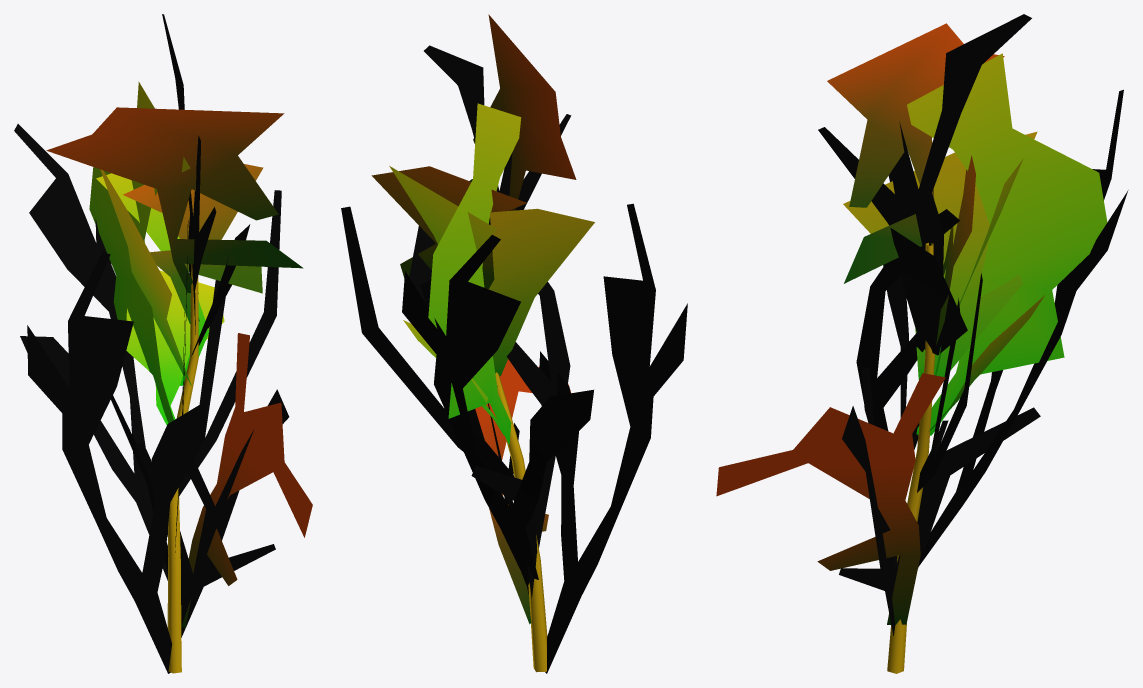
File: Acacia_LOD0_Var6_semkO.fbx
3 renders of one model, left to right at view 1: azimuth 30°, elevation 25°; view 2: azimuth 150°, elevation 25°; view 3: azimuth 270°, elevation 25°, orthographic. The views are drawn at different scales.
Visible parts, largest first — view 1: _9c0d_Var6_LOD0; view 2: _9c0d_Var6_LOD0; view 3: _9c0d_Var6_LOD0.
Boxes of the visible parts, bbox=[...] form: _9c0d_Var6_LOD0: bbox=[14, 14, 312, 673]; _9c0d_Var6_LOD0: bbox=[341, 14, 687, 673]; _9c0d_Var6_LOD0: bbox=[716, 14, 1128, 673].
Size of the model in its own units: 33.81 by 68.31 by 37.31.
